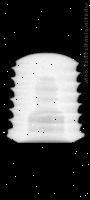NucleOSS: (7, 51, 85, 143)
